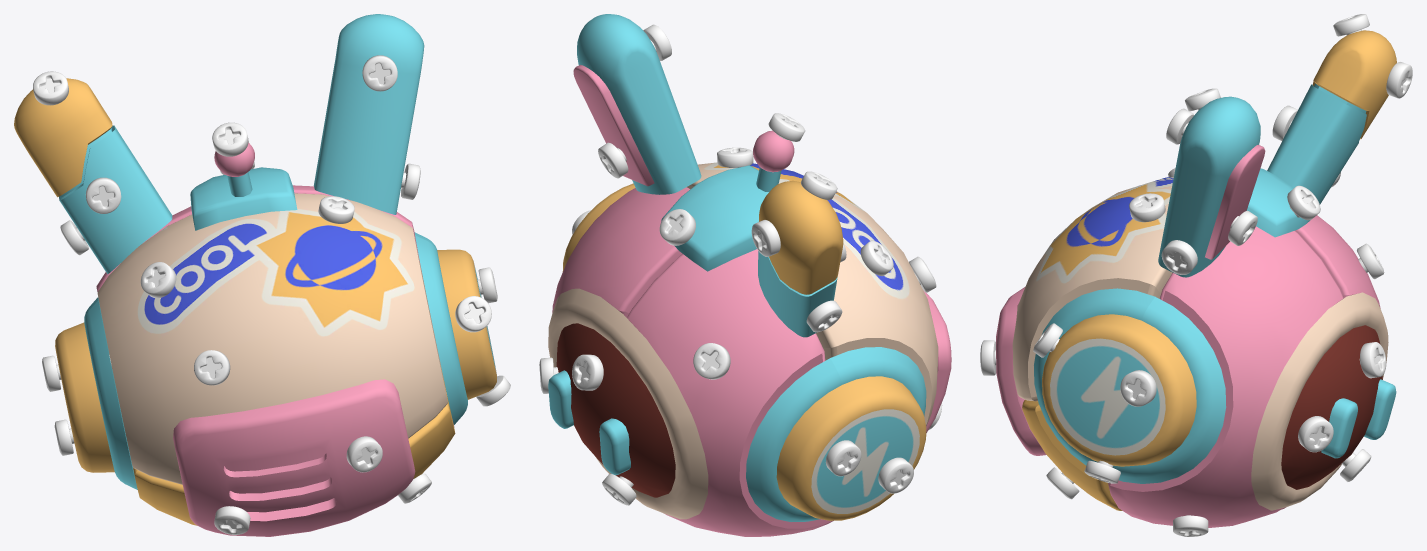
File: RobotCat.fbx
3 views of the same model, side by side, from view 1: azimuth 30°, elevation 25°; view 2: azimuth 150°, elevation 25°; view 3: azimuth 270°, elevation 25° (orthographic). The views are drawn at different scales.
Visible parts, largest first — view 1: RobotCat_009, RobotCat_027, RobotCat_014, RobotCat_033, Screw (×7), RobotCat_031, RobotCat_030, RobotCat_032, RobotCat_025, RobotCat_015, RobotCat_012, RobotCat_010 (+3 smaller); view 2: RobotCat_035, RobotCat_029, RobotCat_032, RobotCat_014, RobotCat_009, RobotCat_026, Screw (×11), RobotCat_030, RobotCat_031, RobotCat_011, RobotCat_010, RobotCat_033 (+5 smaller); view 3: RobotCat_026, RobotCat_029, RobotCat_025, RobotCat_009, RobotCat_014, Screw (×15), RobotCat_013, RobotCat_033, RobotCat_031, RobotCat_012, RobotCat_027, RobotCat_035 (+4 smaller).
Part boxes in pixels (bbox=[...]): RobotCat_009: bbox=[97, 193, 447, 484]; RobotCat_027: bbox=[173, 379, 415, 536]; RobotCat_014: bbox=[313, 14, 424, 214]; RobotCat_033: bbox=[59, 125, 172, 274]; Screw (×7): bbox=[33, 55, 420, 534]; RobotCat_031: bbox=[14, 78, 112, 197]; RobotCat_030: bbox=[190, 142, 297, 230]; RobotCat_032: bbox=[55, 322, 114, 472]; RobotCat_025: bbox=[437, 249, 496, 399]; RobotCat_015: bbox=[133, 365, 455, 525]; RobotCat_012: bbox=[415, 235, 467, 424]; RobotCat_010: bbox=[84, 300, 137, 489]; RobotCat_035: bbox=[627, 249, 833, 536]; RobotCat_029: bbox=[548, 288, 708, 519]; RobotCat_032: bbox=[776, 376, 926, 520]; RobotCat_014: bbox=[573, 14, 701, 194]; RobotCat_009: bbox=[687, 162, 938, 425]; RobotCat_026: bbox=[552, 187, 690, 317]; Screw (×11): bbox=[572, 24, 861, 505]; RobotCat_030: bbox=[661, 130, 794, 271]; RobotCat_031: bbox=[759, 180, 843, 294]; RobotCat_011: bbox=[746, 358, 841, 521]; RobotCat_010: bbox=[830, 347, 926, 416]; RobotCat_033: bbox=[758, 251, 837, 337]; RobotCat_026: bbox=[1108, 226, 1343, 527]; RobotCat_029: bbox=[1251, 292, 1396, 510]; RobotCat_025: bbox=[1042, 314, 1196, 466]; RobotCat_009: bbox=[1012, 177, 1173, 401]; RobotCat_014: bbox=[1158, 96, 1265, 277]; Screw (×15): bbox=[980, 14, 1412, 499]; RobotCat_013: bbox=[1112, 296, 1226, 483]; RobotCat_033: bbox=[1267, 83, 1366, 204]; RobotCat_031: bbox=[1312, 30, 1396, 139]; RobotCat_012: bbox=[1034, 288, 1154, 465]; RobotCat_027: bbox=[996, 287, 1046, 455]; RobotCat_035: bbox=[1282, 215, 1380, 509].
Bounding box in the file's own units: 8.31 × 9.6 × 8.06.
Materials: 3 (2 with a texture image).
